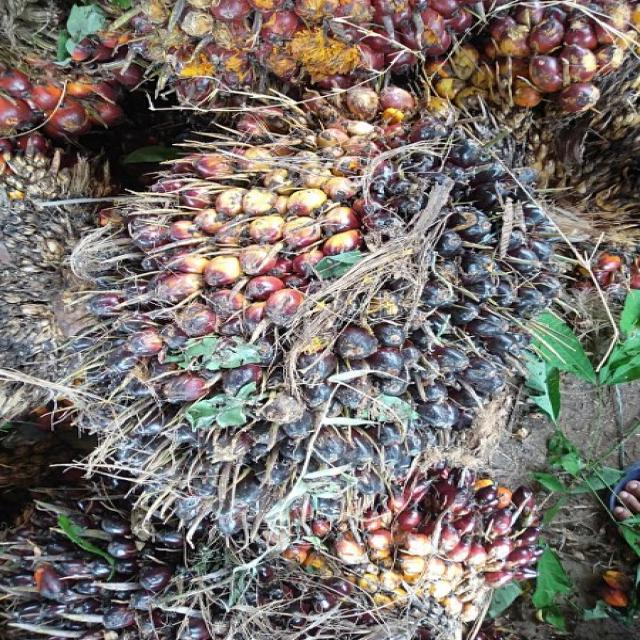fraksi 00: (84, 99, 561, 528)
